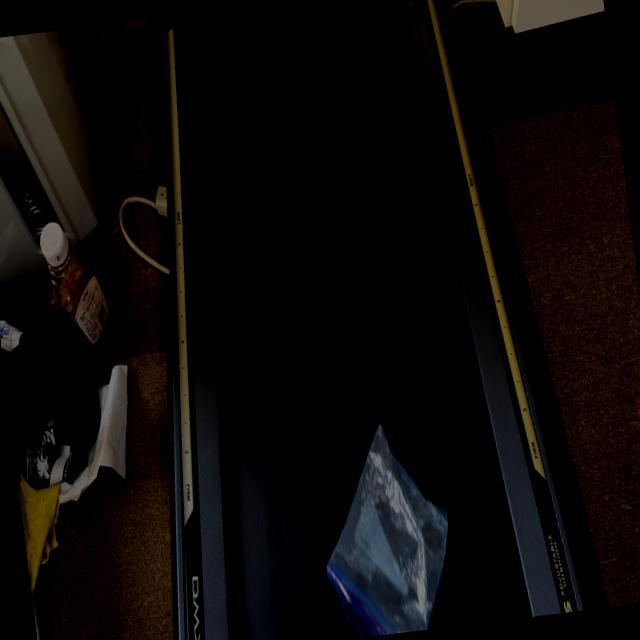Trash: (303, 409, 462, 640)
